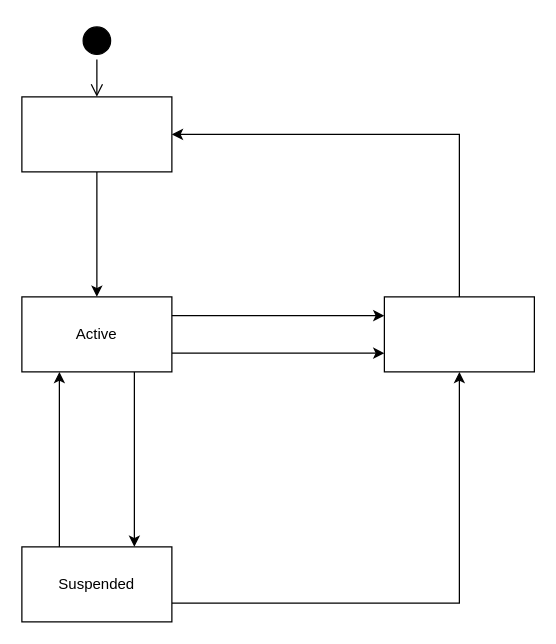
Some shapes in this 556 by 644 pixel diagram are drawn without their labels. The centre of each missing label's shape, as x and y in pixels:
Finished: pixel 458 334
None: pixel 96 134
